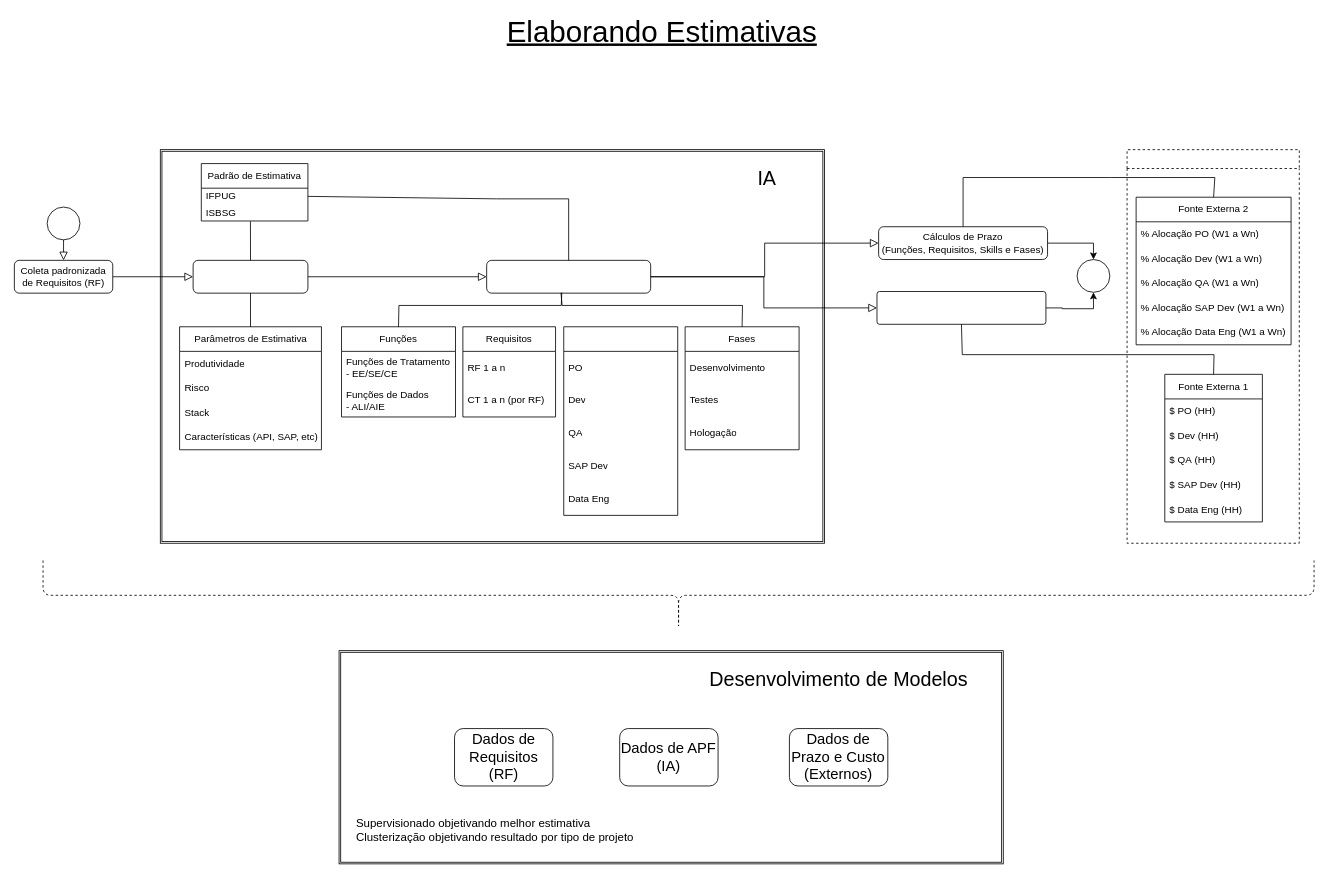
Some shapes in this 1328 by 878 pixel diagram are drawn without their labels. The box of each missing label's shape, as (x1, y1, x2, y2) in pixels:
Conversão de Requisitos (RF) em Esforço (PF): (192, 260, 308, 293)
Cálculos de Custo (Funções, Requisitos, Skills e Fases): (876, 291, 1046, 324)
Distribuíção de Esforço (Funções, Requisitos, Skills e Fases): (486, 260, 651, 293)
Fim: (1076, 259, 1110, 292)
Fontes Externas: (1126, 149, 1299, 543)
Início: (46, 206, 80, 240)
Skills: (563, 326, 678, 515)
